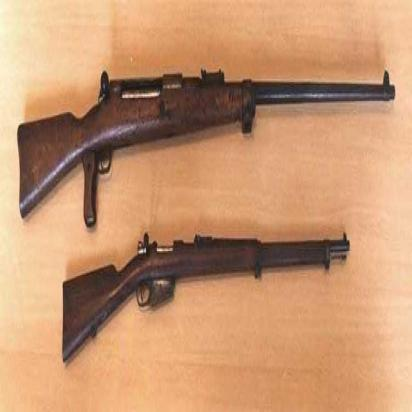Gun: (14, 56, 397, 230), (60, 226, 352, 367)
